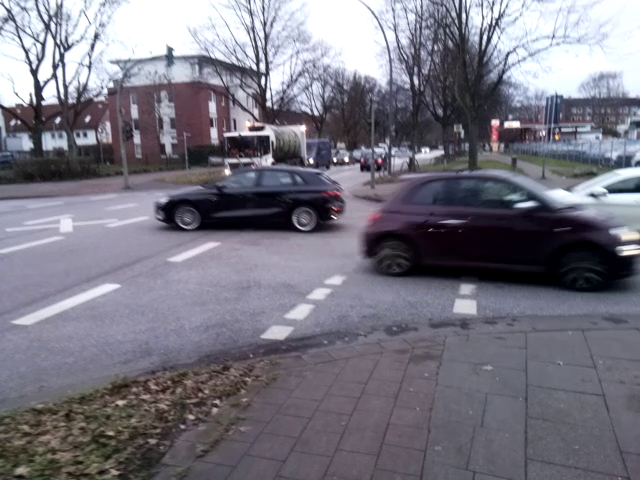car: (373, 164, 634, 300), (152, 161, 348, 235)
